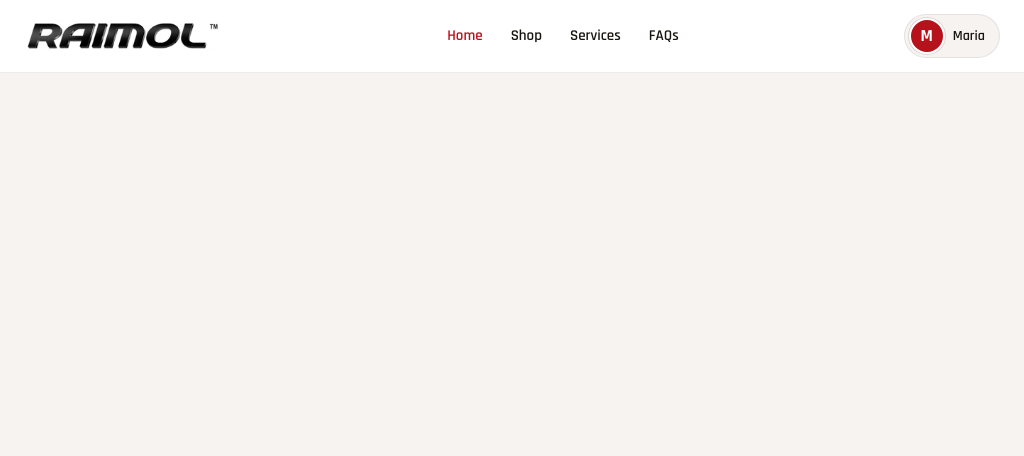
Test case: header after login › closes on Escape and on outside click
Click the button with aria-label "Account menu" at coordinates (952, 36), box [904,14,1000,58]
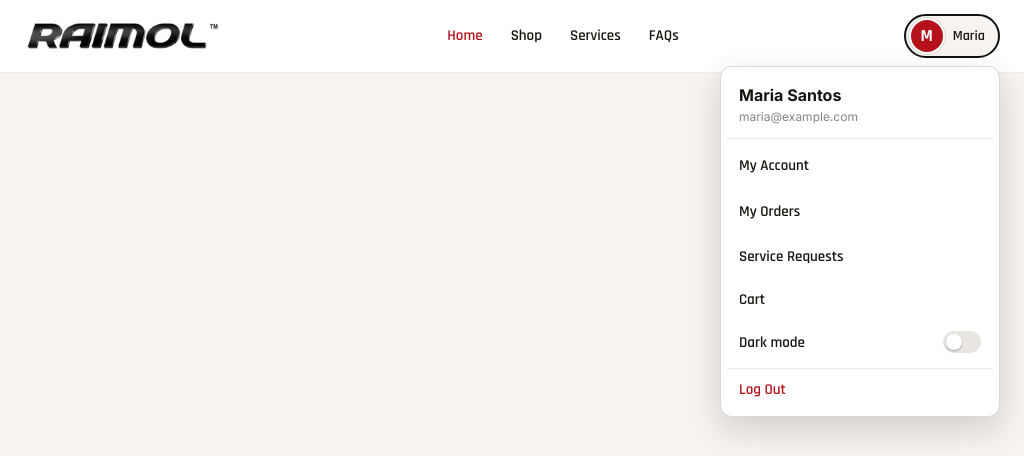
Expected: the menu is shown, [720,66,1000,417]
Press Escape
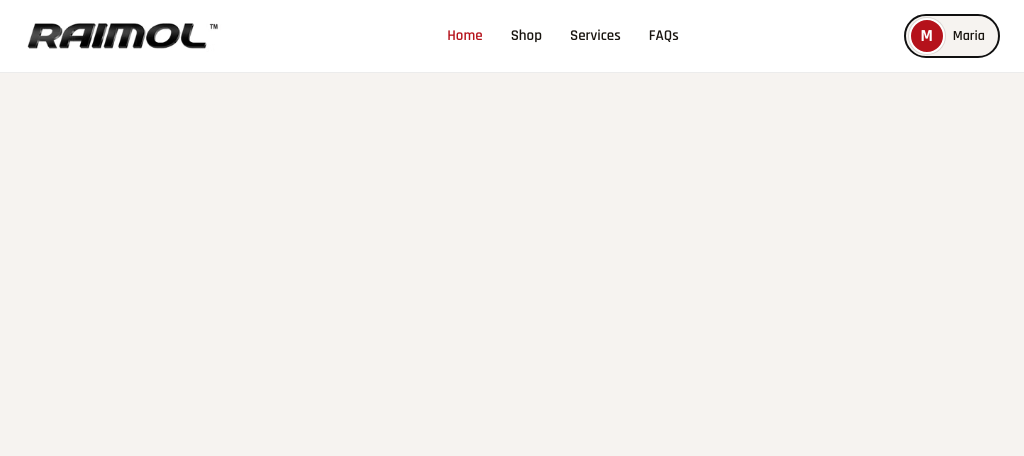
Expected: the menu is gone
Click the button with aria-label "Account menu" at coordinates (952, 36), box [904,14,1000,58]
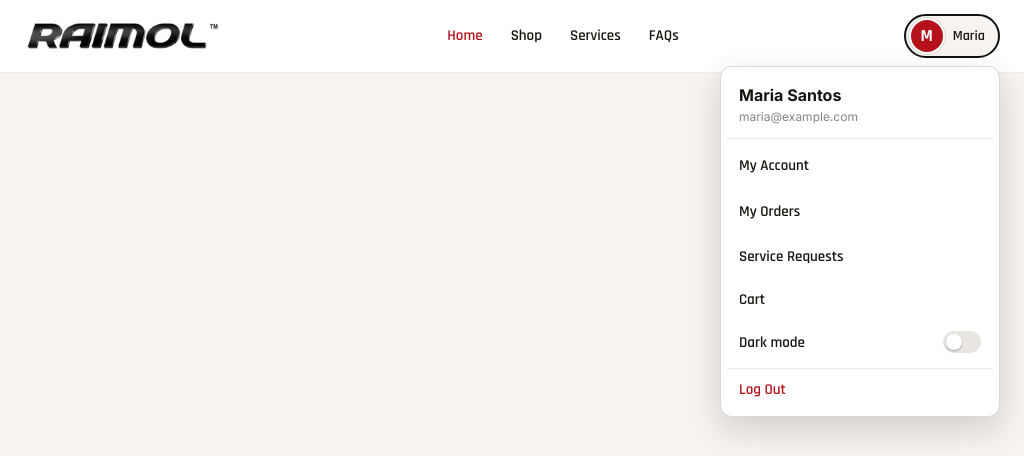
Click the element that starts with "Home" at coordinates (512, 36), box [0,0,1023,73]
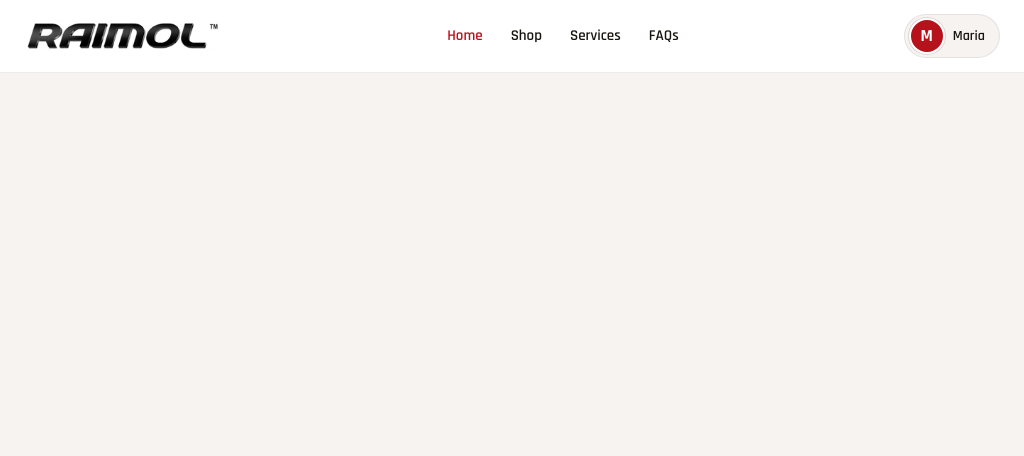
Expected: the menu is gone
